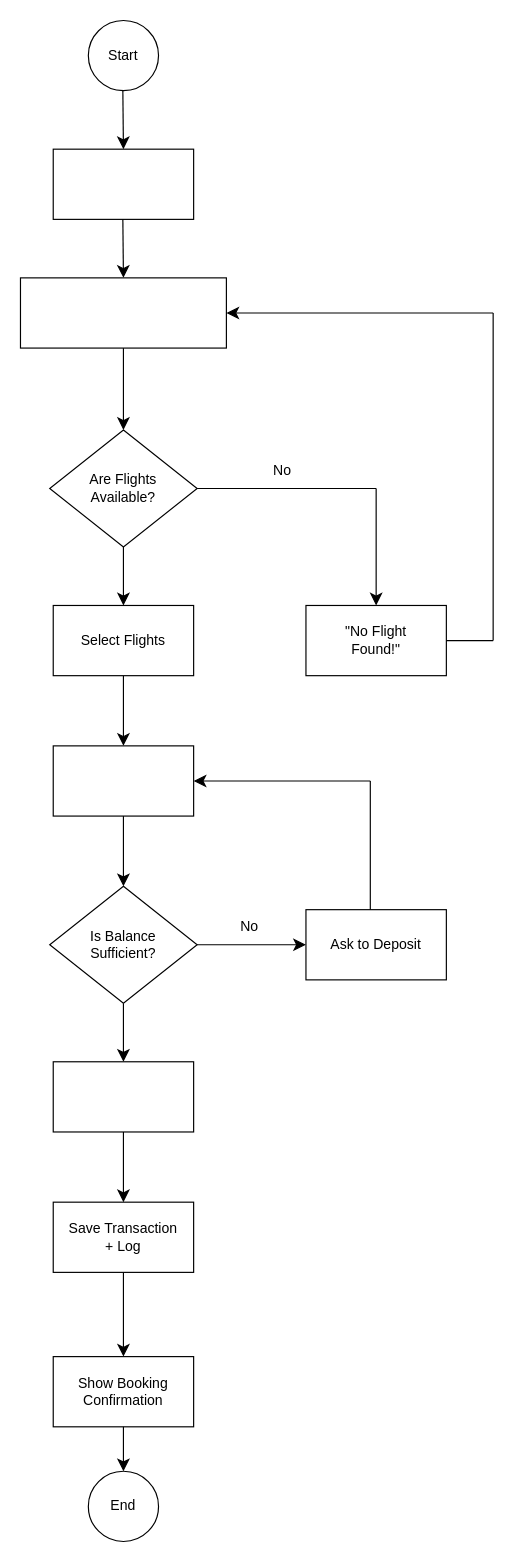
This 515x1562 diagram has some shape labels left out. The centre of each missing label's shape, as x and y in pixels:
Choose Seat(s): the point at 123,780
Create Booking + Deduct Balance: the point at 123,1096
Login: the point at 123,183
Search Flight(by flight/route): the point at 122,312
